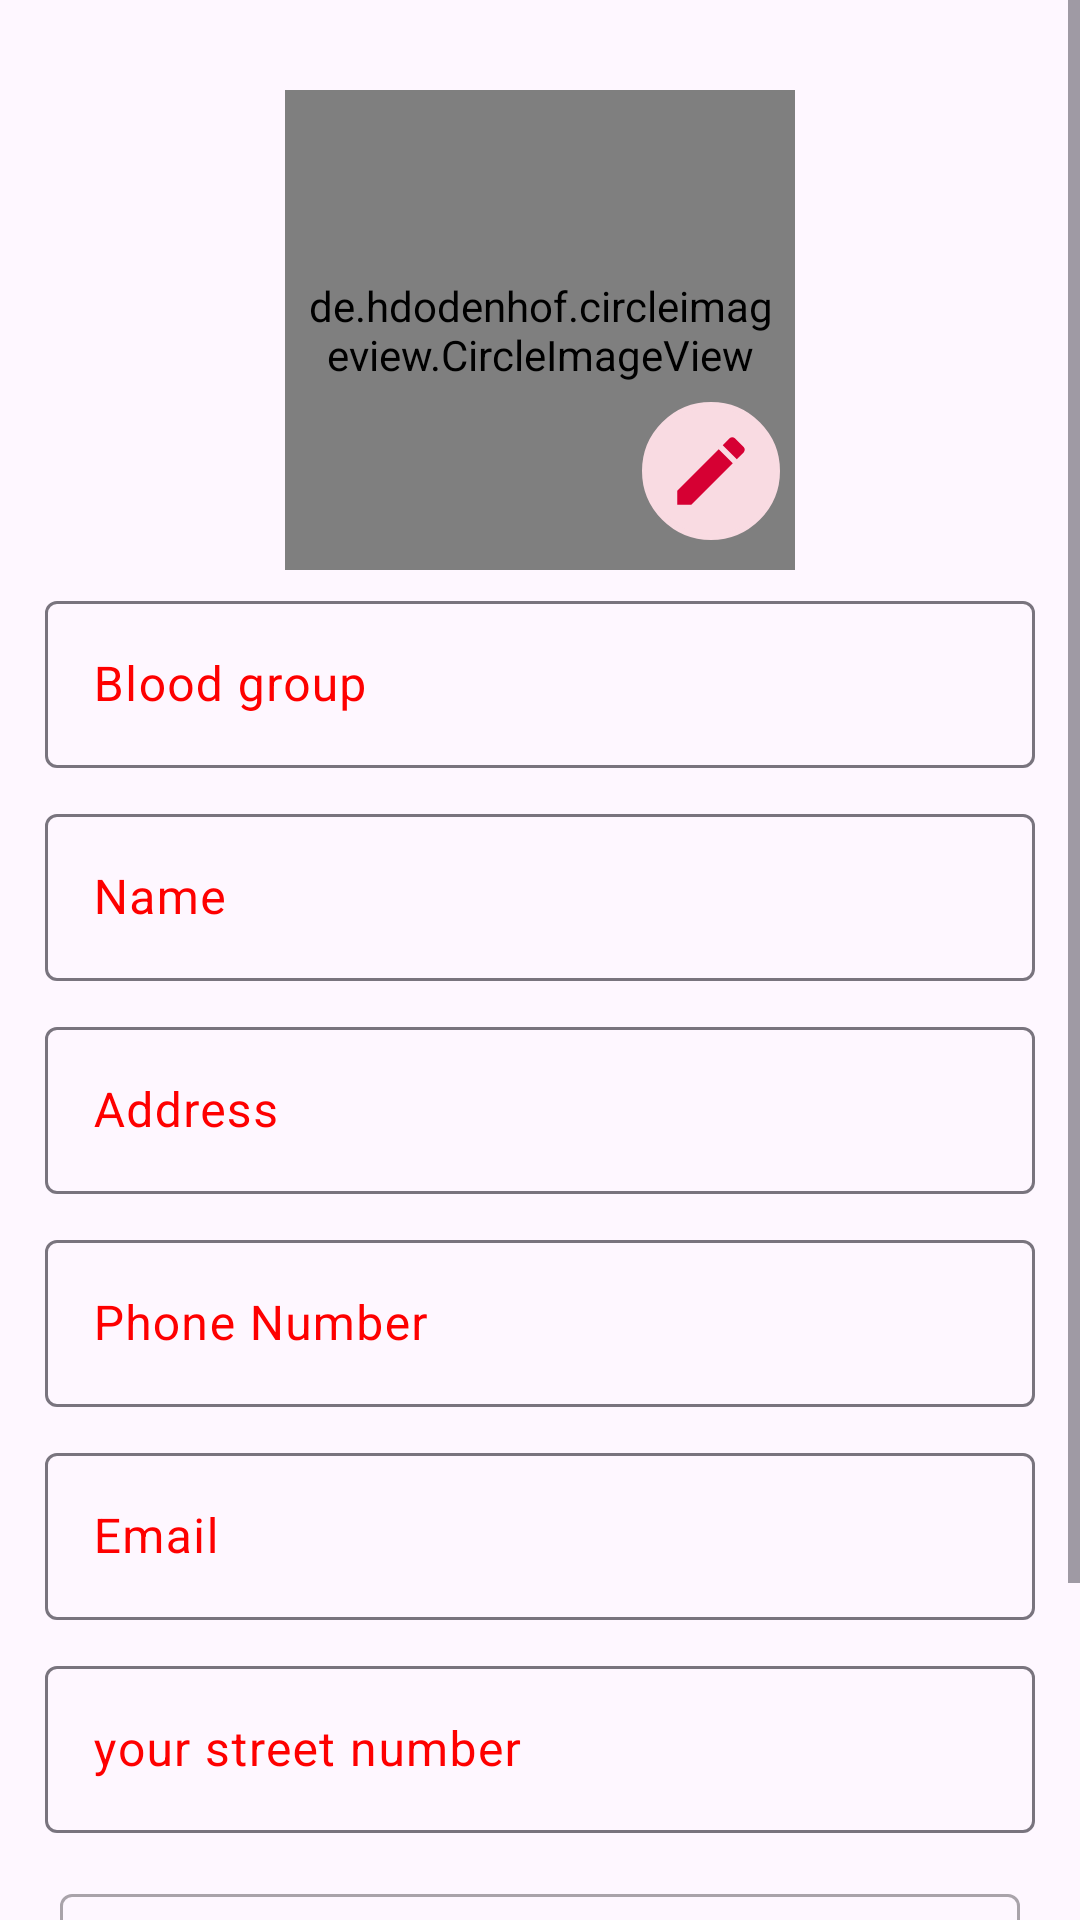

Locate icon controls on the screen. Image size 1080×1920, boxes as BBox(x1, y1, x2, y2).
edit: BBox(642, 402, 780, 540)
